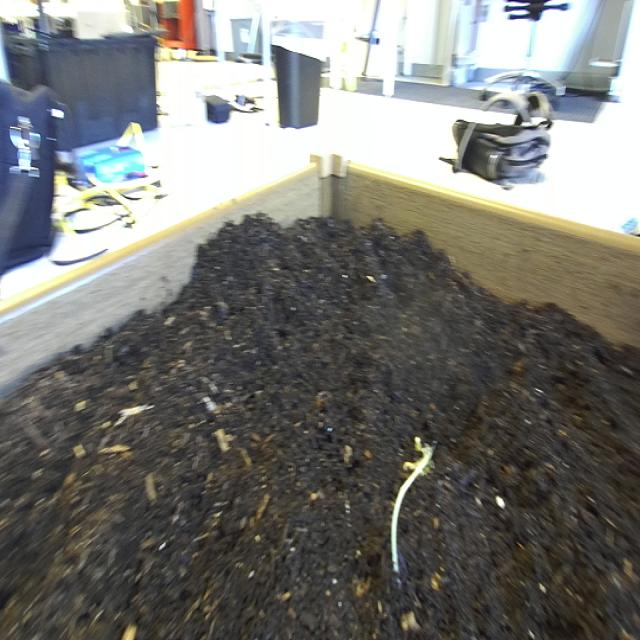Unhealthy: (375, 419, 446, 604)
